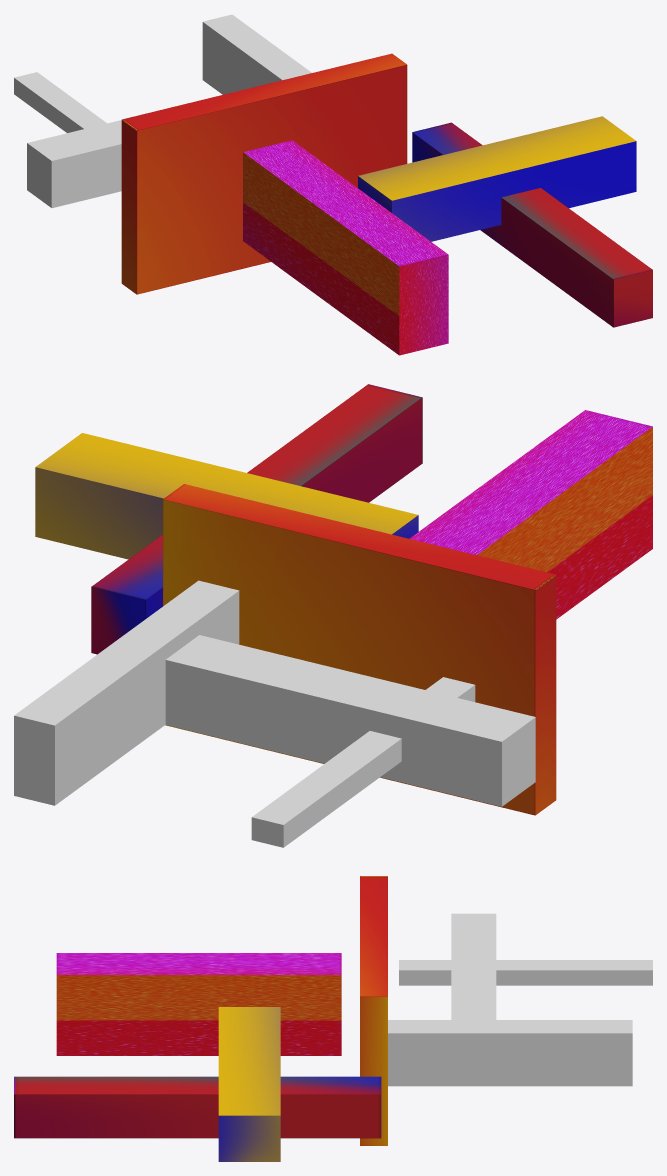
The model's file is Marker_30_Cube4.fbx.
3 renders of one model, top to bottom at view 1: azimuth 30°, elevation 25°; view 2: azimuth 150°, elevation 25°; view 3: azimuth 270°, elevation 25°, orthographic. The views are drawn at different scales.
Visible parts, largest first — view 1: Cube.006, Cube.007, Cube.004, Cube.005, Cube.001, Cube.002, Cube.003; view 2: Cube.006, Cube.001, Cube.007, Cube.002, Cube.004, Cube.005, Cube.003; view 3: Cube.007, Cube.005, Cube.002, Cube.004, Cube.006, Cube.003, Cube.001.
Part boxes in pixels (x1=…): Cube.006: x1=121, y1=53, x2=407, y2=294; Cube.007: x1=243, y1=140, x2=448, y2=355; Cube.004: x1=358, y1=116, x2=636, y2=241; Cube.005: x1=412, y1=122, x2=652, y2=327; Cube.001: x1=27, y1=120, x2=121, y2=207; Cube.002: x1=202, y1=14, x2=311, y2=94; Cube.003: x1=14, y1=72, x2=106, y2=132; Cube.006: x1=163, y1=484, x2=556, y2=815; Cube.001: x1=165, y1=635, x2=535, y2=806; Cube.007: x1=409, y1=410, x2=652, y2=619; Cube.002: x1=14, y1=580, x2=239, y2=805; Cube.004: x1=35, y1=433, x2=418, y2=559; Cube.005: x1=91, y1=384, x2=422, y2=654; Cube.003: x1=251, y1=677, x2=475, y2=847; Cube.007: x1=56, y1=953, x2=341, y2=1055; Cube.005: x1=14, y1=1076, x2=381, y2=1138; Cube.002: x1=388, y1=1020, x2=632, y2=1086; Cube.004: x1=218, y1=1007, x2=280, y2=1161; Cube.006: x1=360, y1=876, x2=387, y2=1145; Cube.003: x1=399, y1=960, x2=652, y2=985; Cube.001: x1=451, y1=913, x2=496, y2=1019.
Size of the model in its own units: 562 by 193 by 746.
